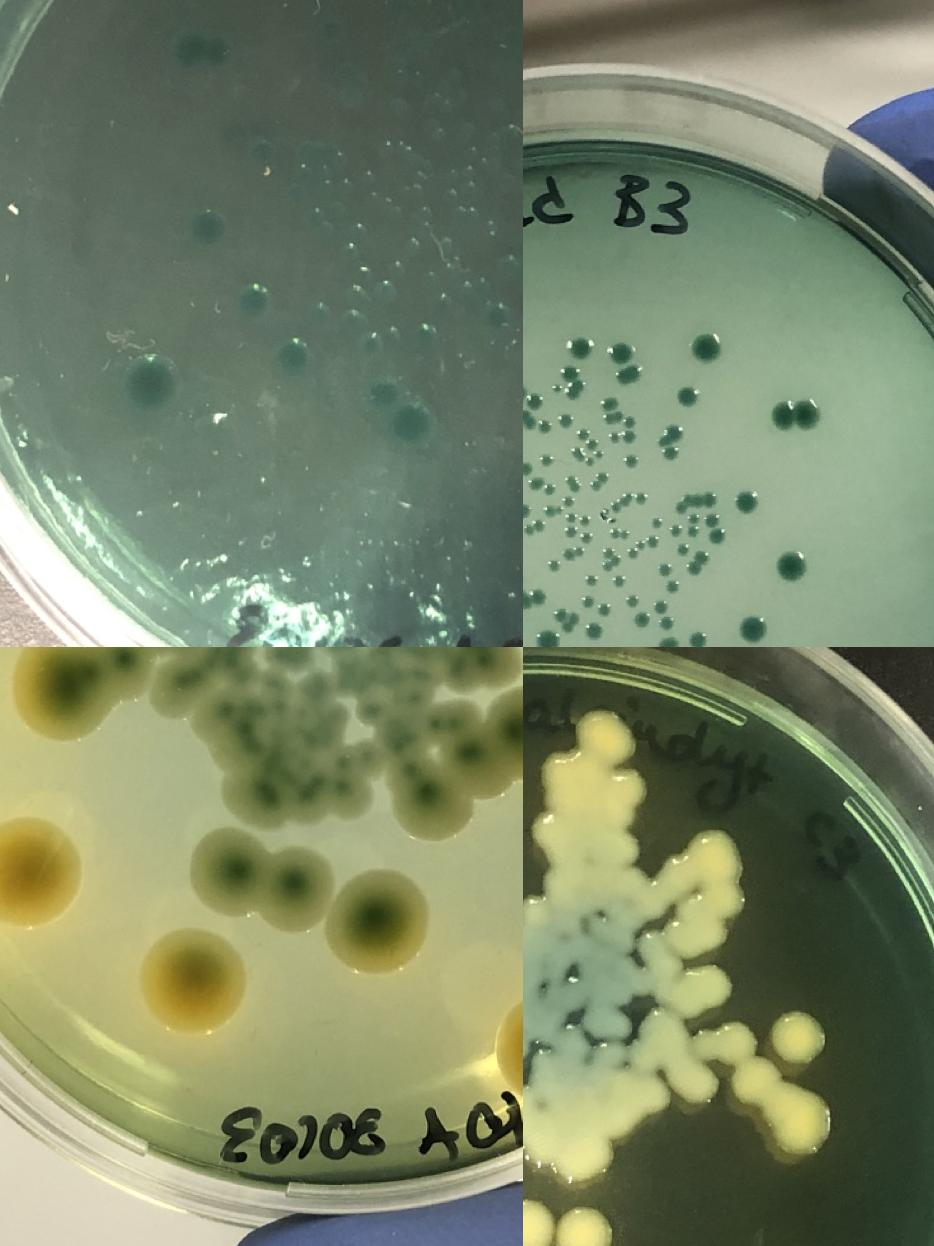pddamselae: (126, 358, 178, 409), (390, 400, 434, 446), (772, 396, 824, 434), (600, 396, 636, 443), (608, 338, 640, 384), (734, 610, 770, 646), (774, 548, 810, 584), (688, 331, 724, 367), (576, 427, 606, 462), (657, 424, 683, 460), (674, 493, 718, 514), (624, 535, 660, 559), (563, 510, 593, 538), (734, 487, 762, 516), (523, 588, 545, 624), (566, 333, 594, 360), (523, 409, 552, 433), (705, 511, 726, 544), (523, 377, 543, 410), (550, 380, 578, 400), (533, 628, 561, 647), (529, 477, 558, 495), (602, 546, 622, 570), (589, 470, 609, 492), (679, 385, 699, 407), (609, 524, 633, 541), (687, 512, 702, 538), (524, 518, 546, 535), (585, 620, 603, 638), (552, 606, 570, 624), (561, 363, 579, 381), (689, 632, 707, 647), (523, 451, 532, 475), (544, 501, 558, 516), (562, 493, 576, 508), (559, 414, 573, 429), (661, 616, 675, 630), (637, 612, 651, 626), (626, 595, 640, 609), (580, 594, 594, 608), (667, 578, 681, 592), (584, 573, 598, 587), (614, 573, 628, 587), (659, 563, 673, 577), (547, 558, 561, 572), (696, 552, 710, 566), (562, 548, 576, 562), (668, 523, 682, 537), (635, 490, 649, 504), (564, 473, 578, 487), (540, 452, 554, 466), (570, 444, 584, 458), (596, 601, 609, 615), (655, 598, 668, 612), (579, 530, 592, 544), (649, 516, 662, 530), (659, 637, 677, 647), (626, 454, 638, 468), (677, 544, 690, 556), (523, 502, 530, 516)
valgino: (189, 826, 435, 978), (586, 930, 730, 1074), (692, 1022, 830, 1150), (13, 647, 145, 738), (140, 926, 250, 1035), (0, 819, 81, 929), (662, 828, 746, 916), (544, 712, 632, 796), (392, 766, 475, 844), (527, 1126, 611, 1184), (772, 1010, 828, 1068), (487, 687, 523, 775), (496, 990, 523, 1100), (554, 1206, 611, 1246), (604, 767, 646, 812), (523, 1200, 553, 1246), (554, 1028, 588, 1060), (606, 834, 640, 866), (555, 980, 588, 1012), (638, 1082, 670, 1114), (687, 1068, 719, 1100), (696, 915, 728, 947), (543, 869, 575, 901), (532, 814, 564, 846), (523, 895, 552, 927), (523, 1074, 536, 1144)
